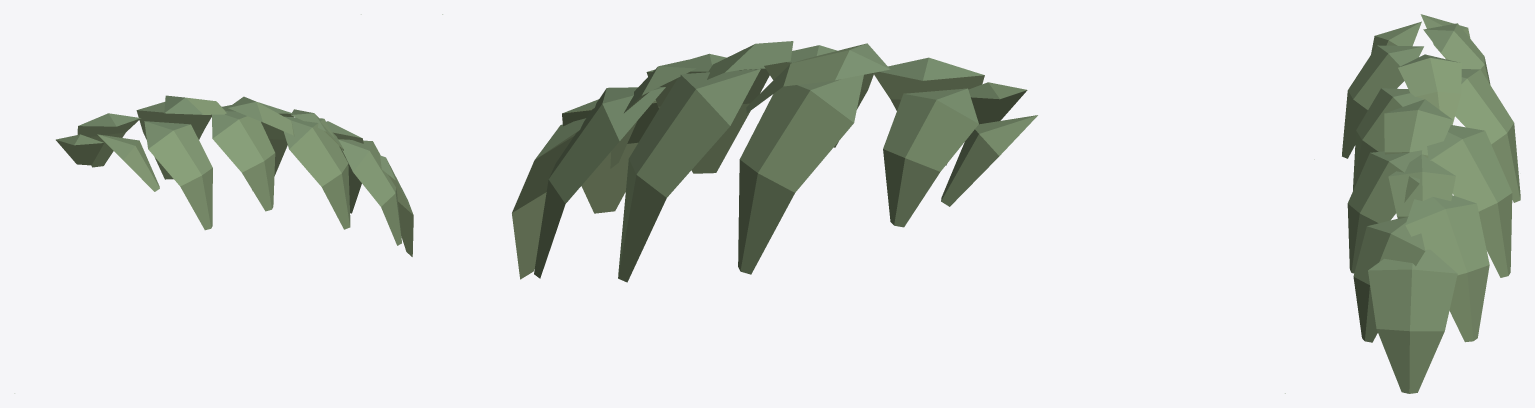
The model's file is CedarBough_leaf.glb.
3 renders of one model, left to right at view 1: azimuth 30°, elevation 25°; view 2: azimuth 150°, elevation 25°; view 3: azimuth 270°, elevation 25°, orthographic. The views are drawn at different scales.
Visible parts, largest first — view 1: CedarBough_leaf; view 2: CedarBough_leaf; view 3: CedarBough_leaf.
Part boxes in pixels (<box>): CedarBough_leaf: <box>14,14,413,393</box>; CedarBough_leaf: <box>442,14,1285,393</box>; CedarBough_leaf: <box>1314,14,1520,393</box>.
Bounding box in the file's own units: 12.31 × 5.4 × 4.58.
